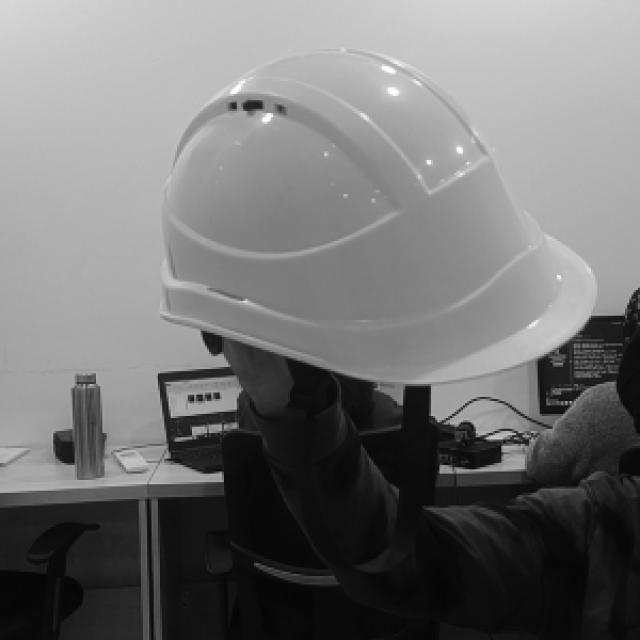safety_helmet: (160, 48, 602, 387)
